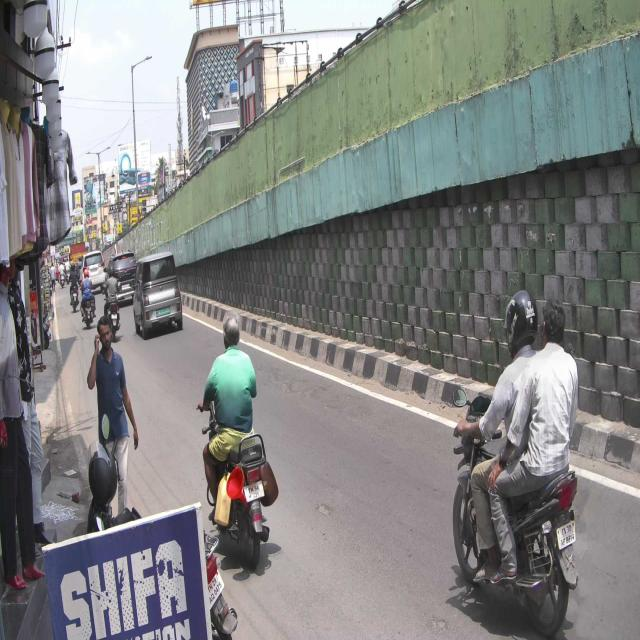double_rider: (452, 290, 580, 632)
single_rider: (199, 314, 278, 569)
